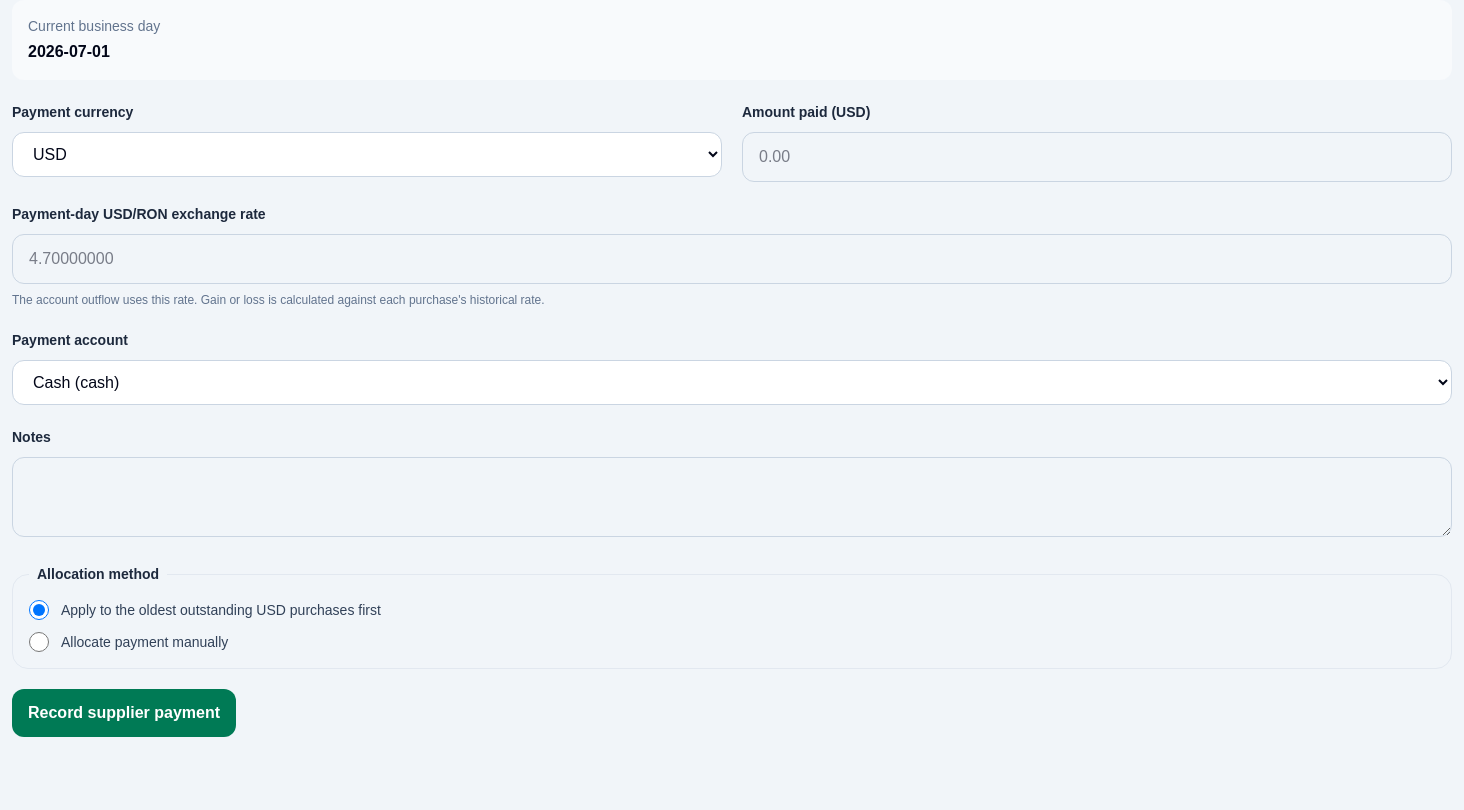
Test: supplier payment forms › switches to RON without showing an exchange rate
This screenshot has width=1464, height=810.
Select "RON" in the dropdown labelled "Payment currency": (367, 154) [12,132,722,177]
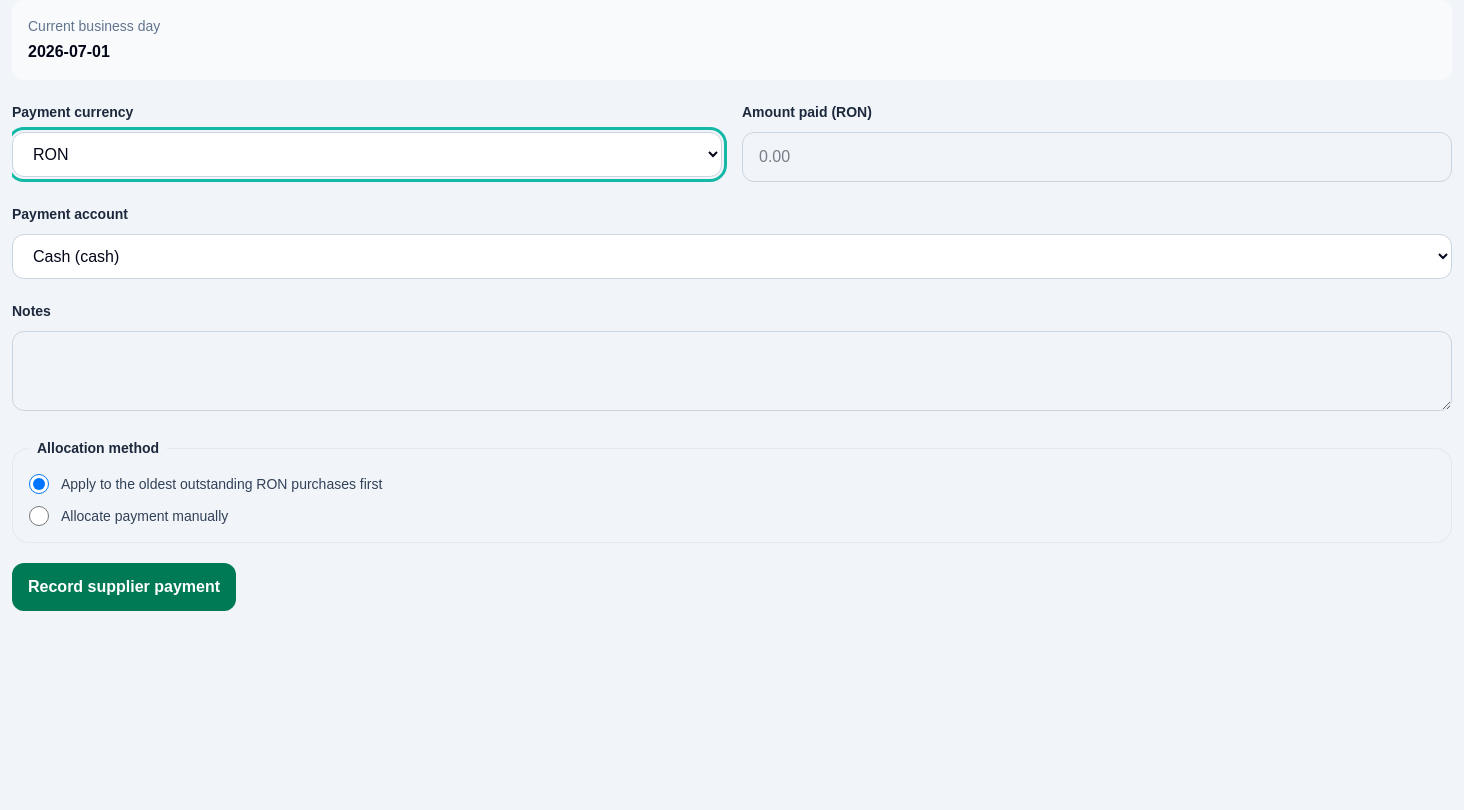
Check: the label "Payment-day USD/RON exchange rate" is gone
